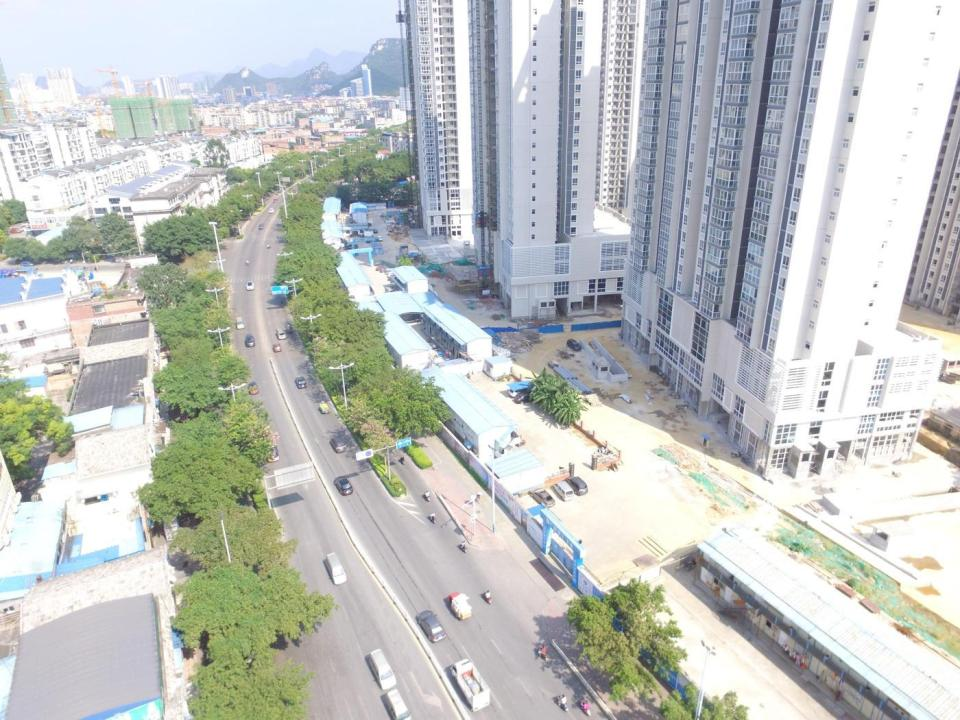car: (416, 610, 447, 642), (530, 487, 555, 507), (565, 475, 588, 496), (334, 475, 353, 496), (330, 436, 346, 454), (514, 391, 534, 404), (267, 444, 280, 462), (294, 376, 307, 389), (248, 382, 259, 396), (245, 333, 254, 347), (374, 264, 388, 272), (245, 280, 254, 291), (379, 266, 391, 274), (21, 261, 35, 267), (272, 344, 281, 352), (9, 230, 21, 234), (377, 236, 383, 241), (268, 209, 274, 214), (272, 198, 278, 203), (287, 187, 293, 192), (259, 224, 264, 229), (374, 228, 378, 234)
van: (450, 658, 491, 712), (369, 648, 397, 690), (385, 688, 409, 720), (325, 553, 348, 584), (553, 480, 575, 502), (508, 387, 529, 397), (566, 338, 582, 351), (275, 329, 287, 340), (235, 317, 245, 329), (11, 227, 23, 232)
